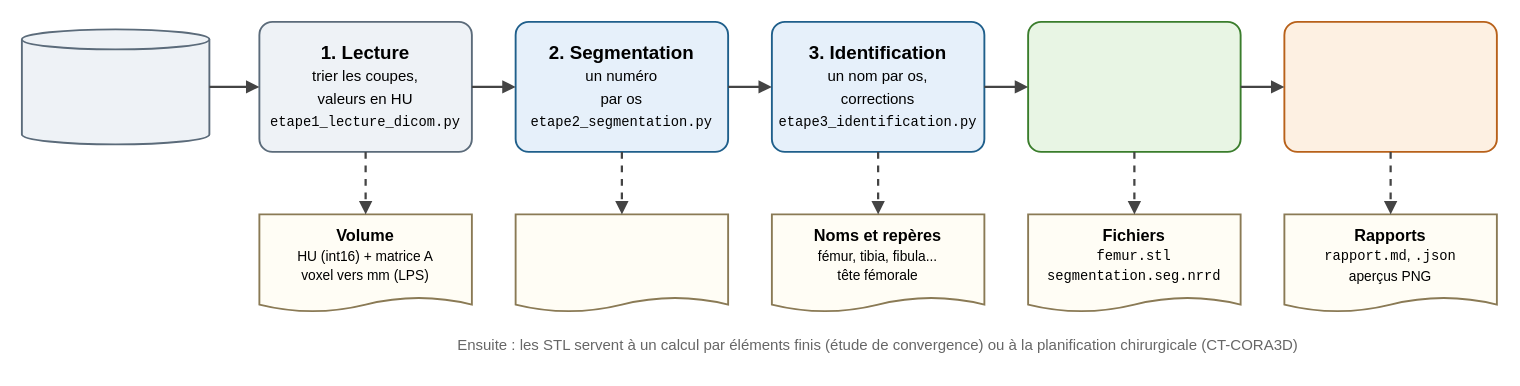
This 1520x386 diagram has some shape labels left out. Each missing label, with the centre of its shape:
4. Maillage une surface fermée par os etape4_maillage.py: pixel 1134 86
5. Contrôle sensibilité au seuil, rapports etape5_controle.py: pixel 1390 86
Dossier DICOM une coupe par fichier, une ou plusieurs séries: pixel 115 86
Étiquettes tableau 3D : 0 = pas d'os, 1, 2, 3...: pixel 621 262
